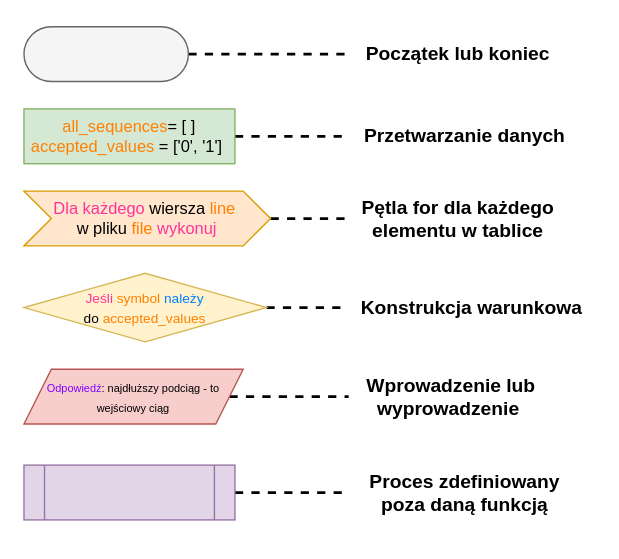
Image size: 619x559. Some labels were removed from this diagram. Each missing label, with the centre of its shape:
Start: [105,53]
znajdź podciągi i wpisz ich do substring: [129,492]
